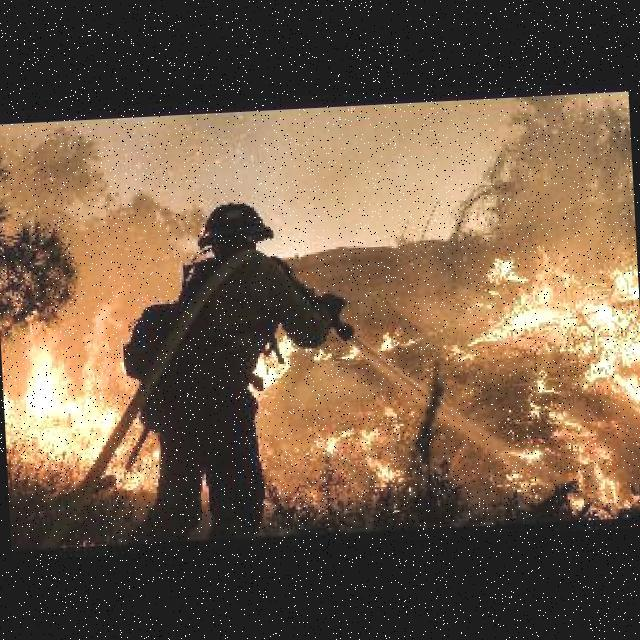Fire: (2, 270, 407, 510), (434, 245, 640, 501)
